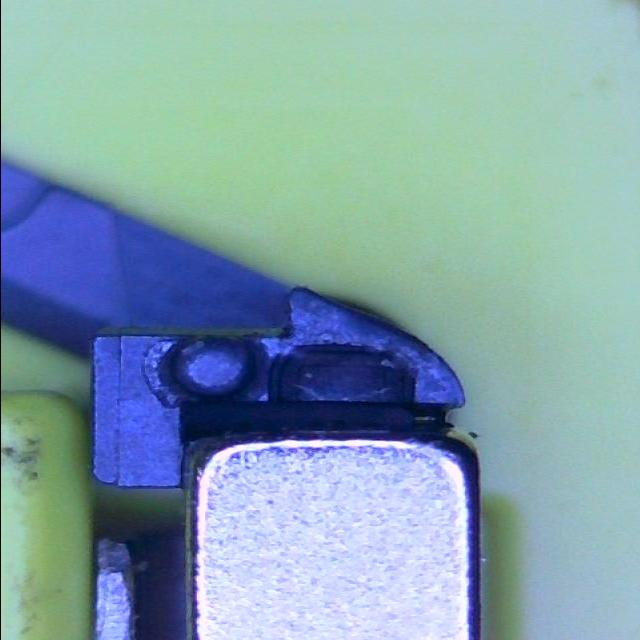over: (264, 342, 418, 416)
